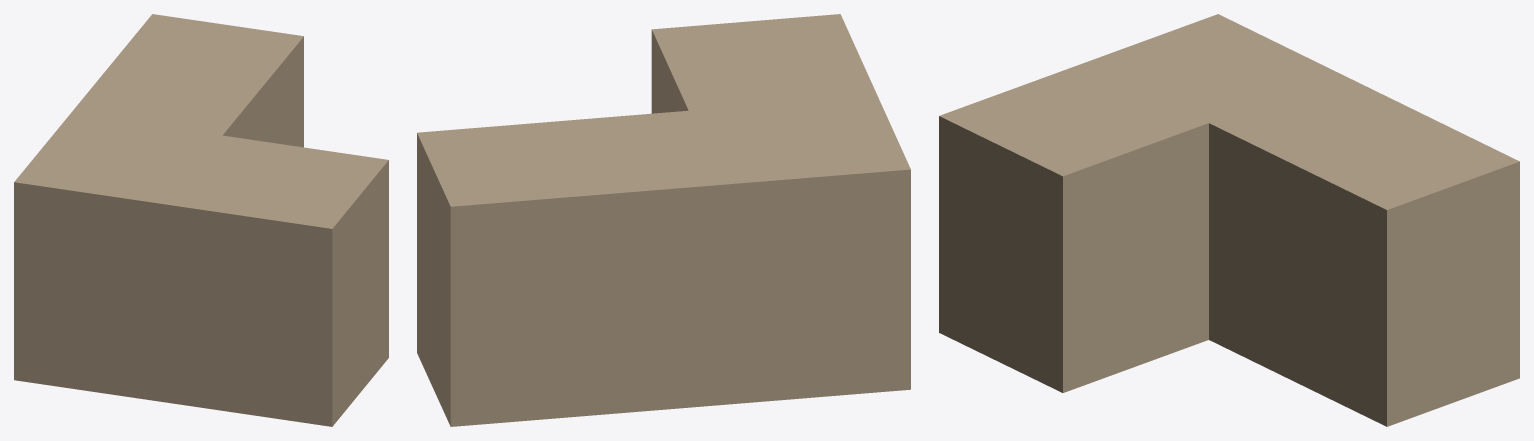
File: bld_55879305.dae
The picture shows the model from 3 angles, left to right: view 1: azimuth 30°, elevation 25°; view 2: azimuth 150°, elevation 25°; view 3: azimuth 270°, elevation 25°; orthographic projection. The views are drawn at different scales.
Parts seen in each view (by area): view 1: Bramleys; view 2: Bramleys; view 3: Bramleys.
Part boxes in pixels (left/top/right/bottom): Bramleys: left=14, top=14, right=388, bottom=426; Bramleys: left=417, top=14, right=910, bottom=426; Bramleys: left=939, top=14, right=1519, bottom=426.
Bounding box in the file's own units: 15.52 × 19.43 × 8.
